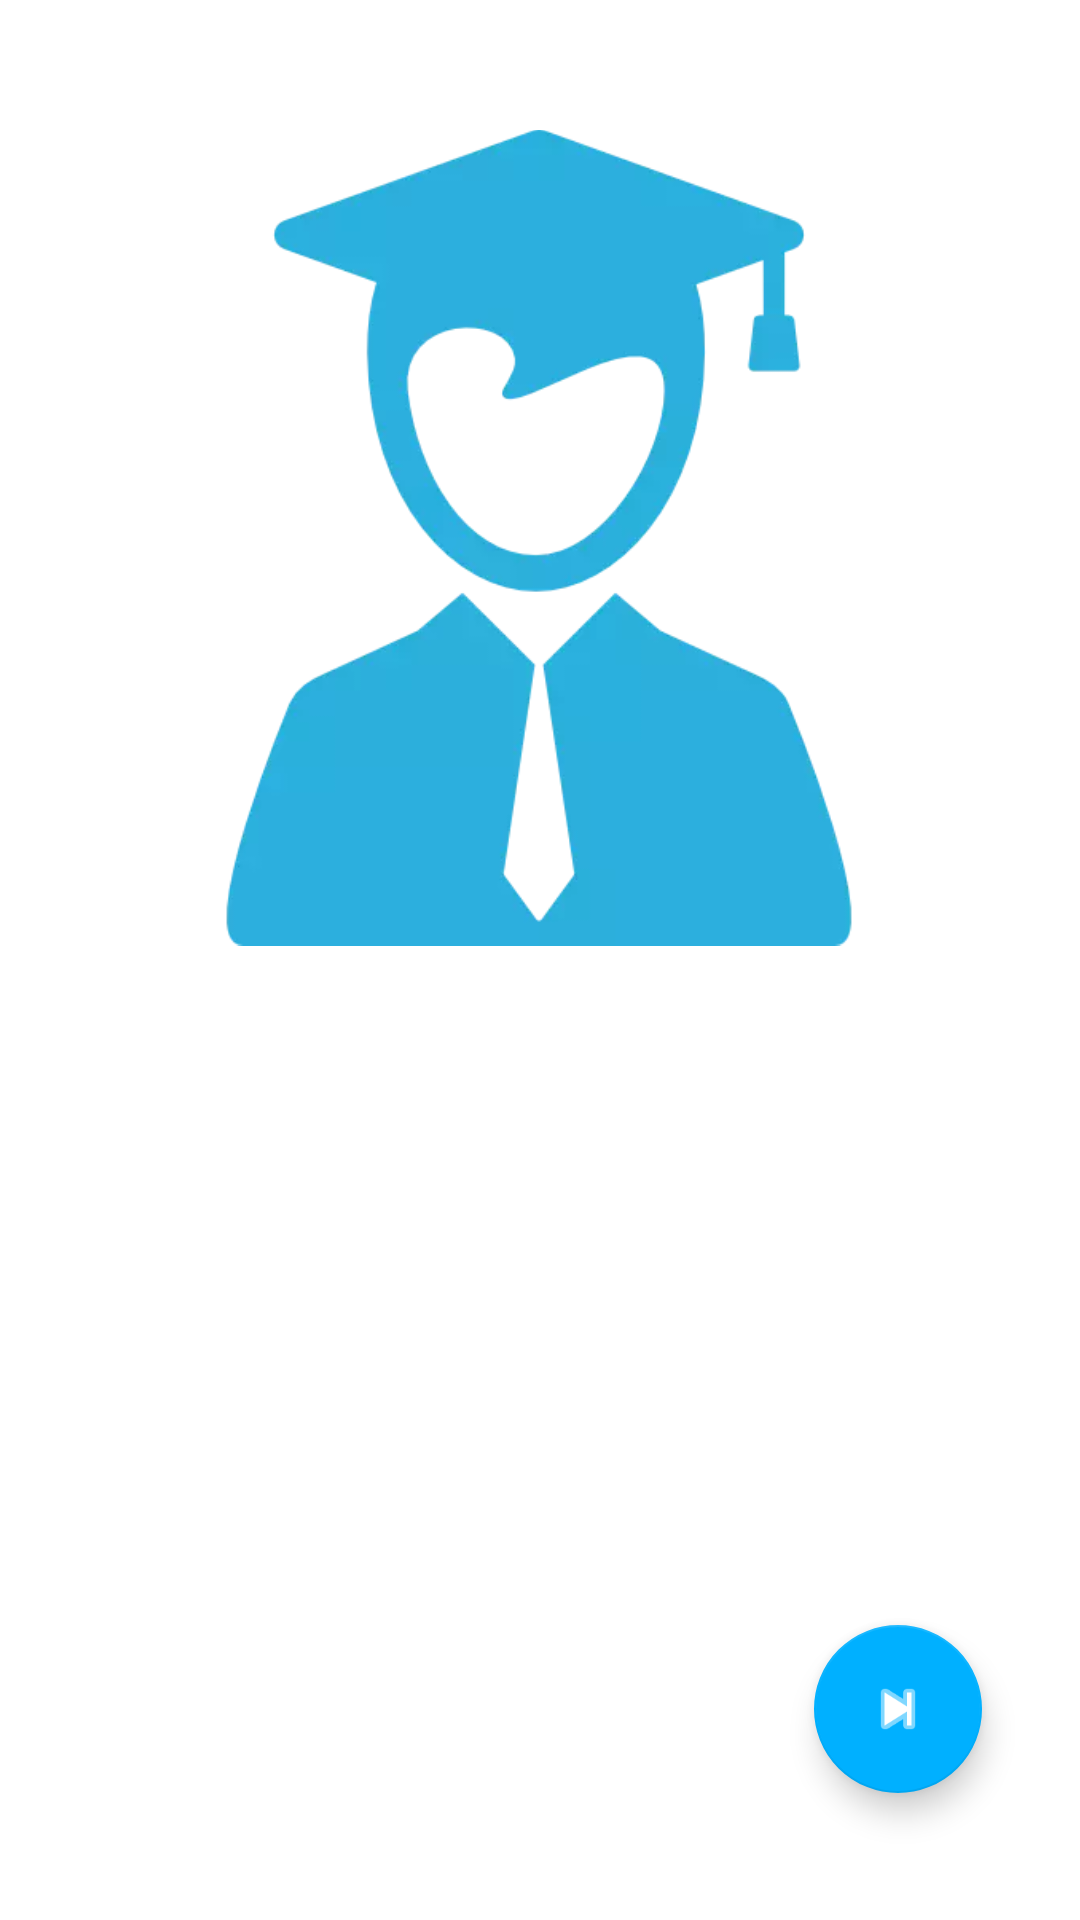

Where to tap for icons on this 1080px×1920px app screen, as (x=x, y=y):
next: (x=898, y=1709)
